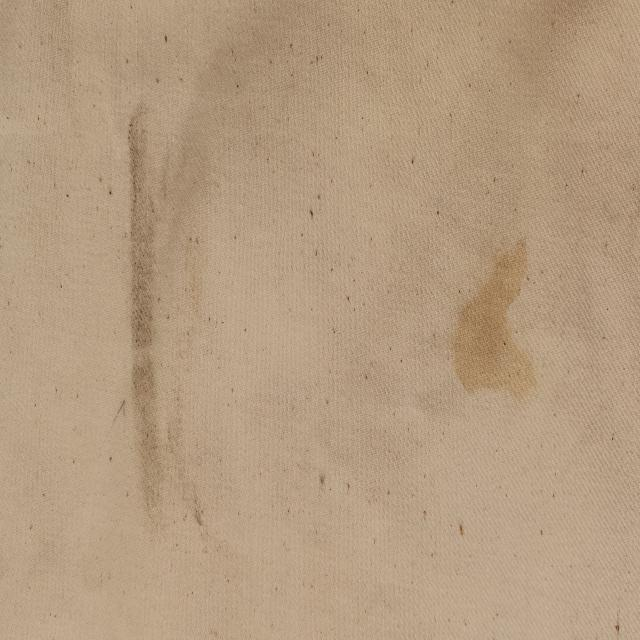taaaches: (100, 81, 196, 558), (434, 223, 552, 442)
